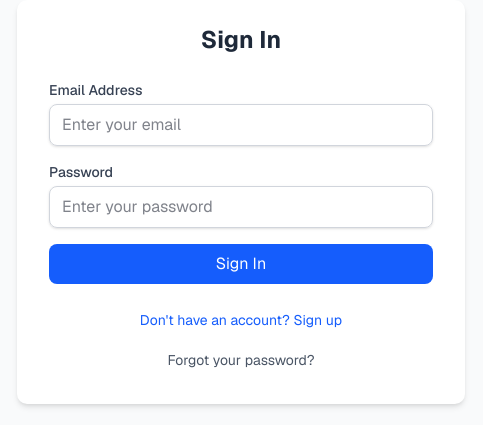
Test case: LoginForm › should show loading state during submission
Type "test@example.com" into the field labelled "Email Address" at [241, 125], box [49,104,433,146]
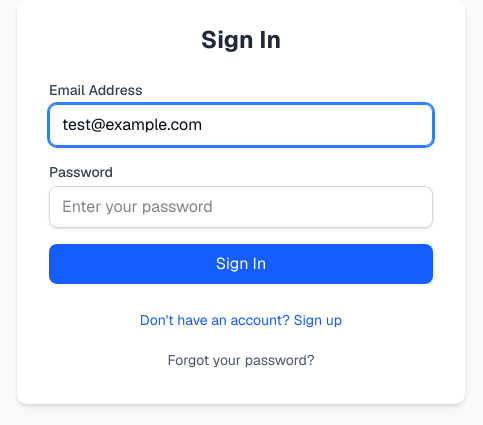
Type "password123" into the password field labelled "Password" at [241, 207], box [49,186,433,228]
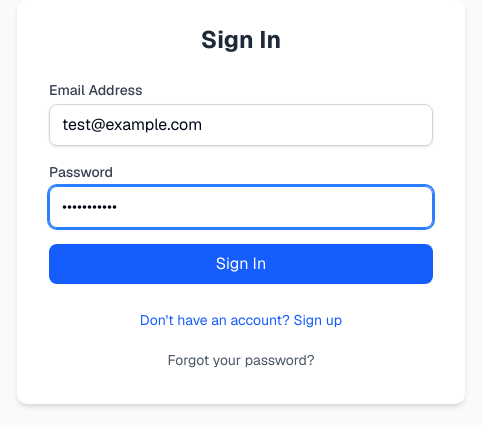
Click the button "Sign In" at [241, 264], box [49,244,433,284]
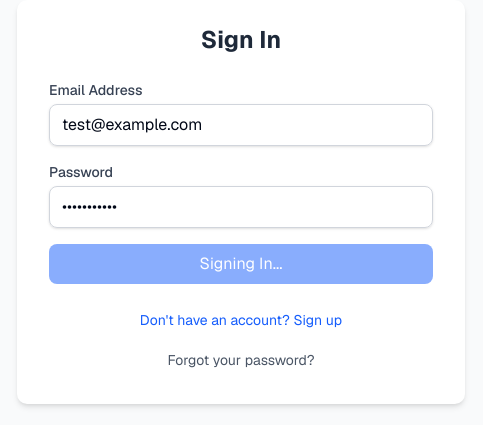
Now the button "Signing In..." is disabled, box [49,244,433,284]
